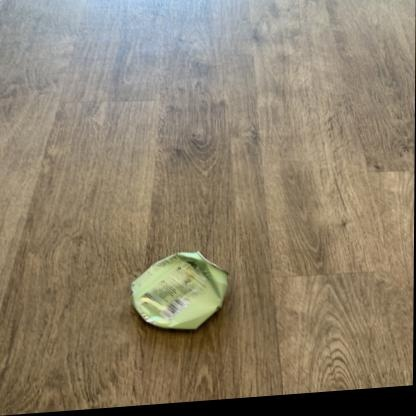trash: (131, 252, 227, 329)
